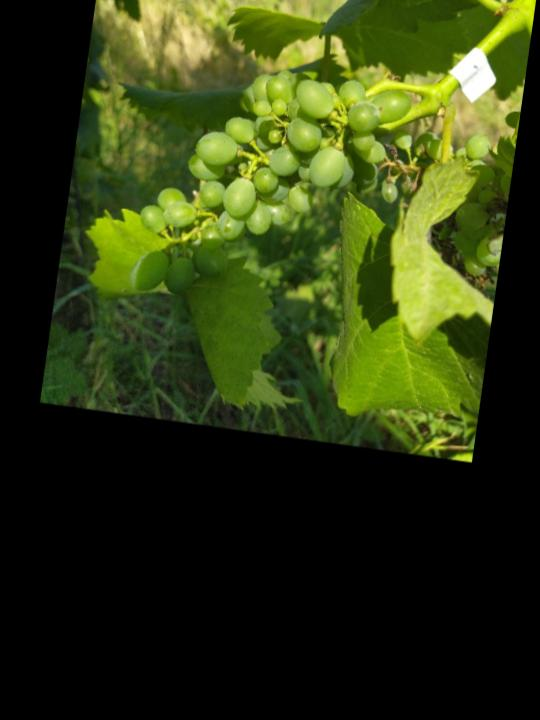grape: (113, 42, 431, 335)
